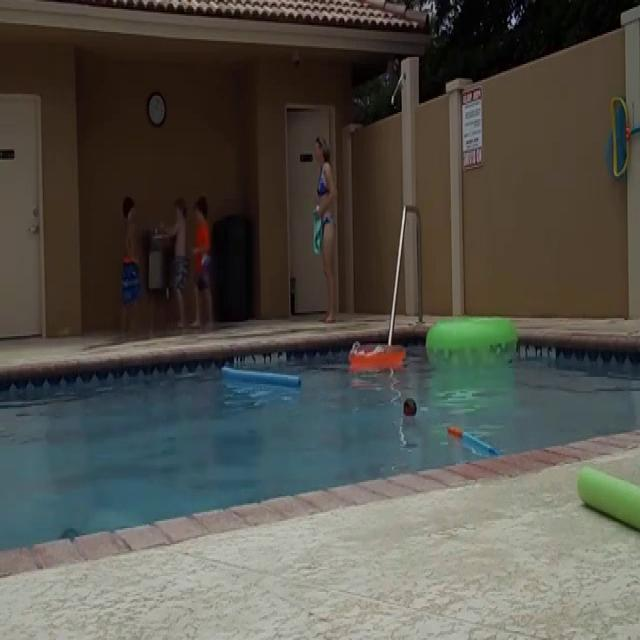adult: (312, 137, 338, 321)
child: (162, 194, 188, 330), (116, 194, 140, 338), (192, 197, 212, 332)
